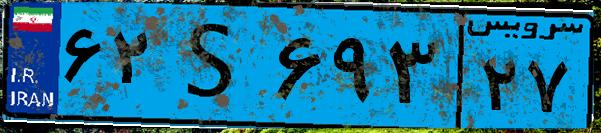2: (475, 38, 525, 113), (110, 28, 158, 98)
3: (385, 28, 445, 110)
6: (270, 28, 330, 110), (57, 26, 110, 100)
7: (525, 38, 570, 115)
9: (330, 28, 385, 110)
S: (158, 12, 270, 120)
